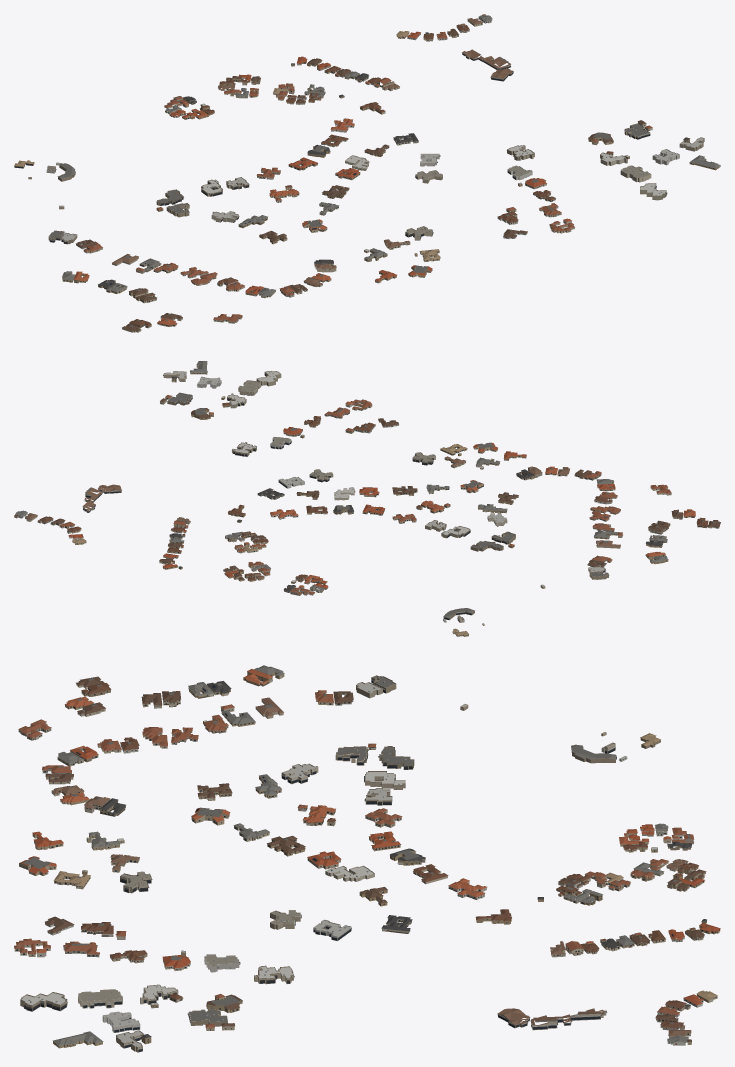
3 views of the same model, one above another, from view 1: azimuth 30°, elevation 25°; view 2: azimuth 150°, elevation 25°; view 3: azimuth 270°, elevation 25° (orthographic). The views are drawn at different scales.
Visible parts, largest first — view 1: buildings_r7_c1_lod0; view 2: buildings_r7_c1_lod0; view 3: buildings_r7_c1_lod0.
Part boxes in pixels (x1=…): buildings_r7_c1_lod0: x1=14, y1=14, x2=720, y2=332; buildings_r7_c1_lod0: x1=14, y1=361, x2=720, y2=636; buildings_r7_c1_lod0: x1=14, y1=665, x2=720, y2=1052.
Bounding box in the file's own units: 1150 × 68.34 × 815.
